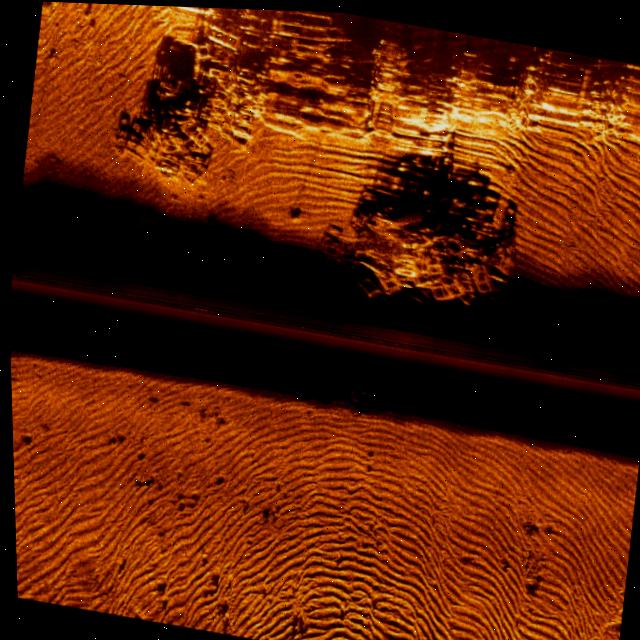artificial reef: (295, 158, 543, 328), (96, 34, 282, 199), (276, 350, 404, 414)
